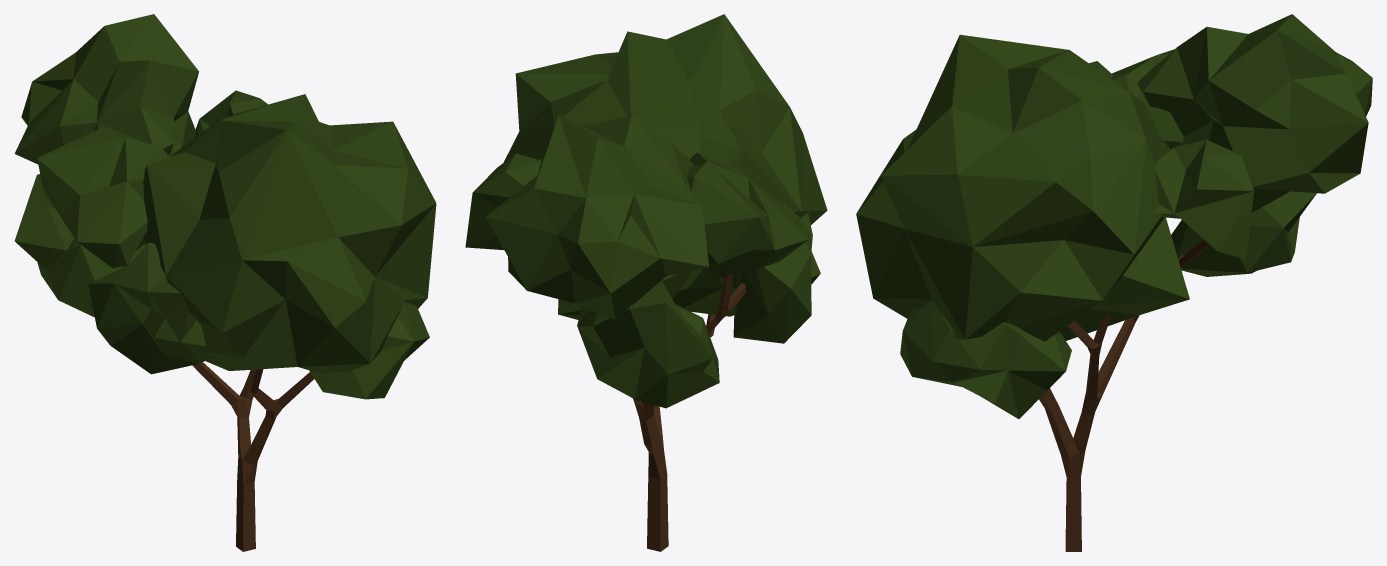
File: lpoly_tree.glb
The picture shows the model from 3 angles, left to right: view 1: azimuth 30°, elevation 25°; view 2: azimuth 150°, elevation 25°; view 3: azimuth 270°, elevation 25°; orthographic projection. The views are drawn at different scales.
Visible parts, largest first — view 1: Crown, Trunk; view 2: Crown, Trunk; view 3: Crown, Trunk.
Boxes of the visible parts, left/top/right/bottom form: Crown: left=14, top=14, right=436, bottom=399; Trunk: left=123, top=262, right=314, bottom=551; Crown: left=465, top=14, right=827, bottom=408; Trunk: left=633, top=274, right=745, bottom=551; Crown: left=856, top=14, right=1372, bottom=419; Trunk: left=1039, top=239, right=1209, bottom=551.
Size of the model in its own units: 8.14 by 12.12 by 10.95.
